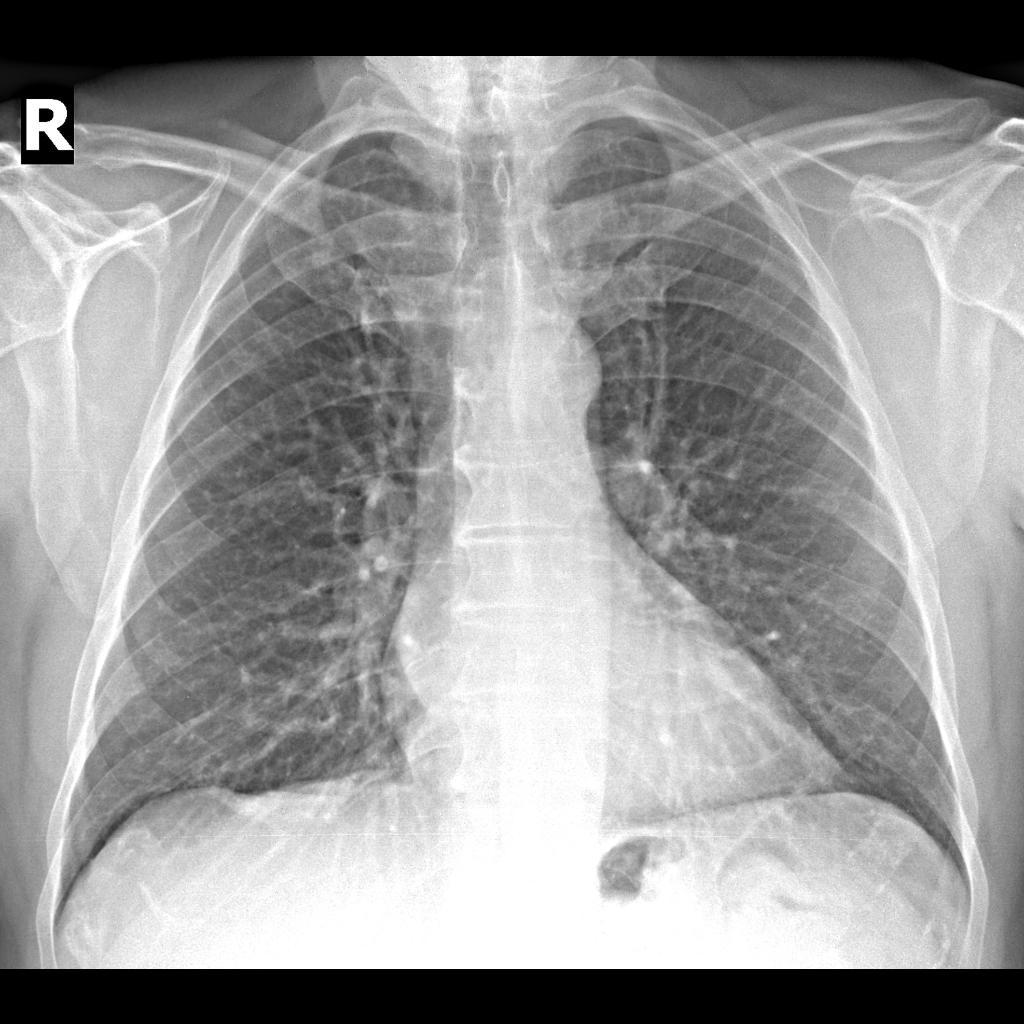Nodule: (304, 241, 336, 276)
